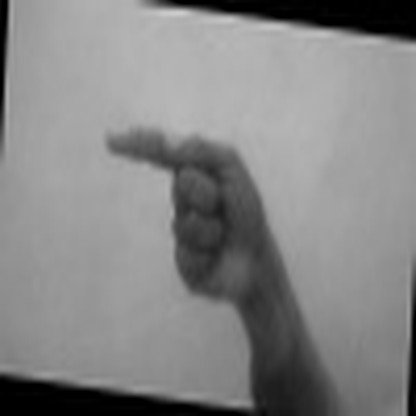g: (99, 118, 270, 299)
